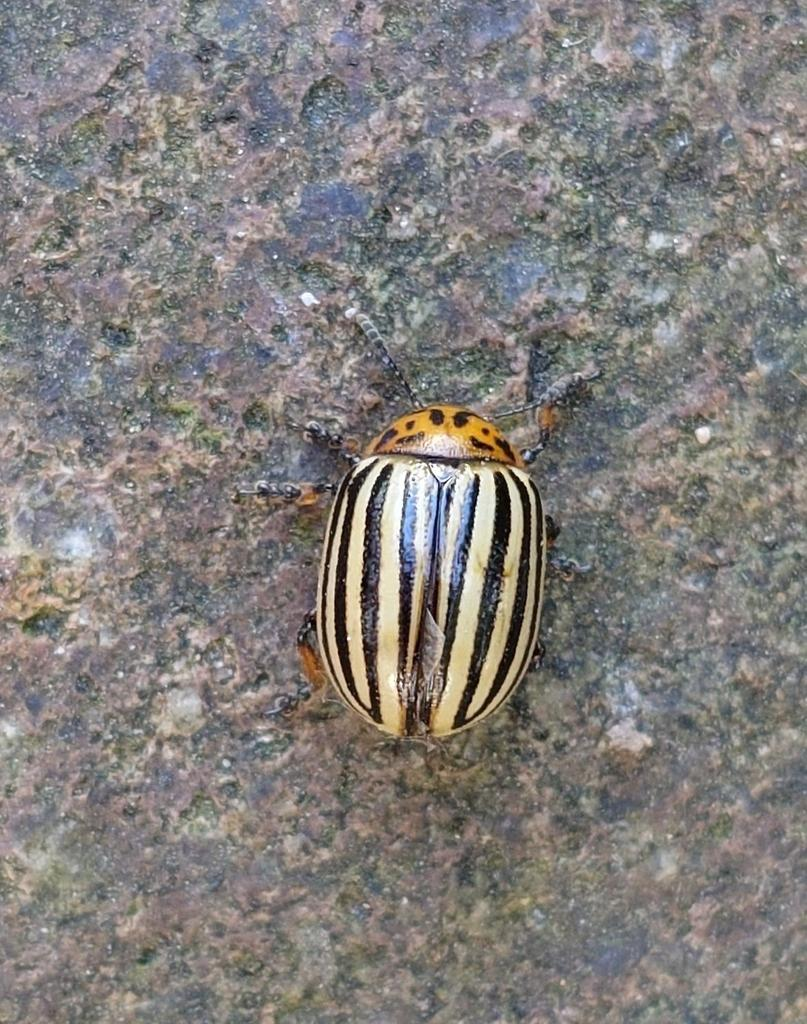potato_beetle: (197, 227, 667, 848)
